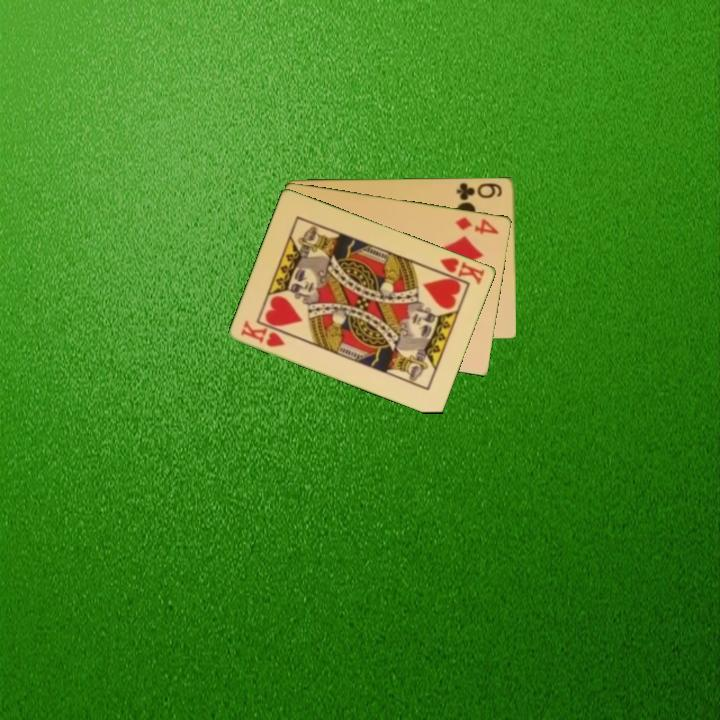4d: (452, 213, 502, 237)
6c: (453, 179, 505, 203)
Kh: (431, 254, 488, 288), (237, 317, 289, 350)
